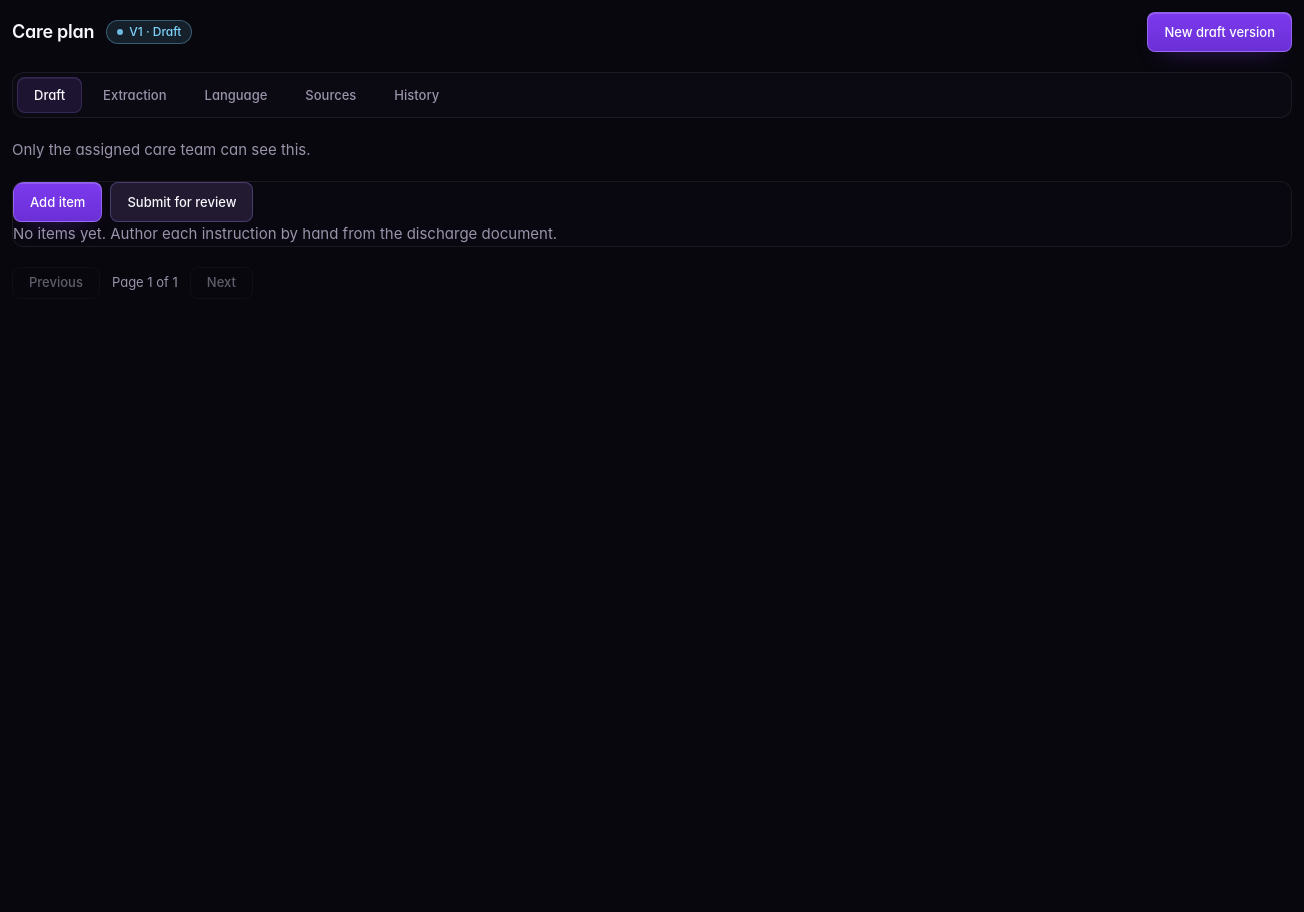
Test: CarePlanPanel › clears a stale item editor when a write is refused with a conflict
The image size is (1304, 912).
Click the button "Add item". click: point(58, 202)
box: [13,182,102,222]
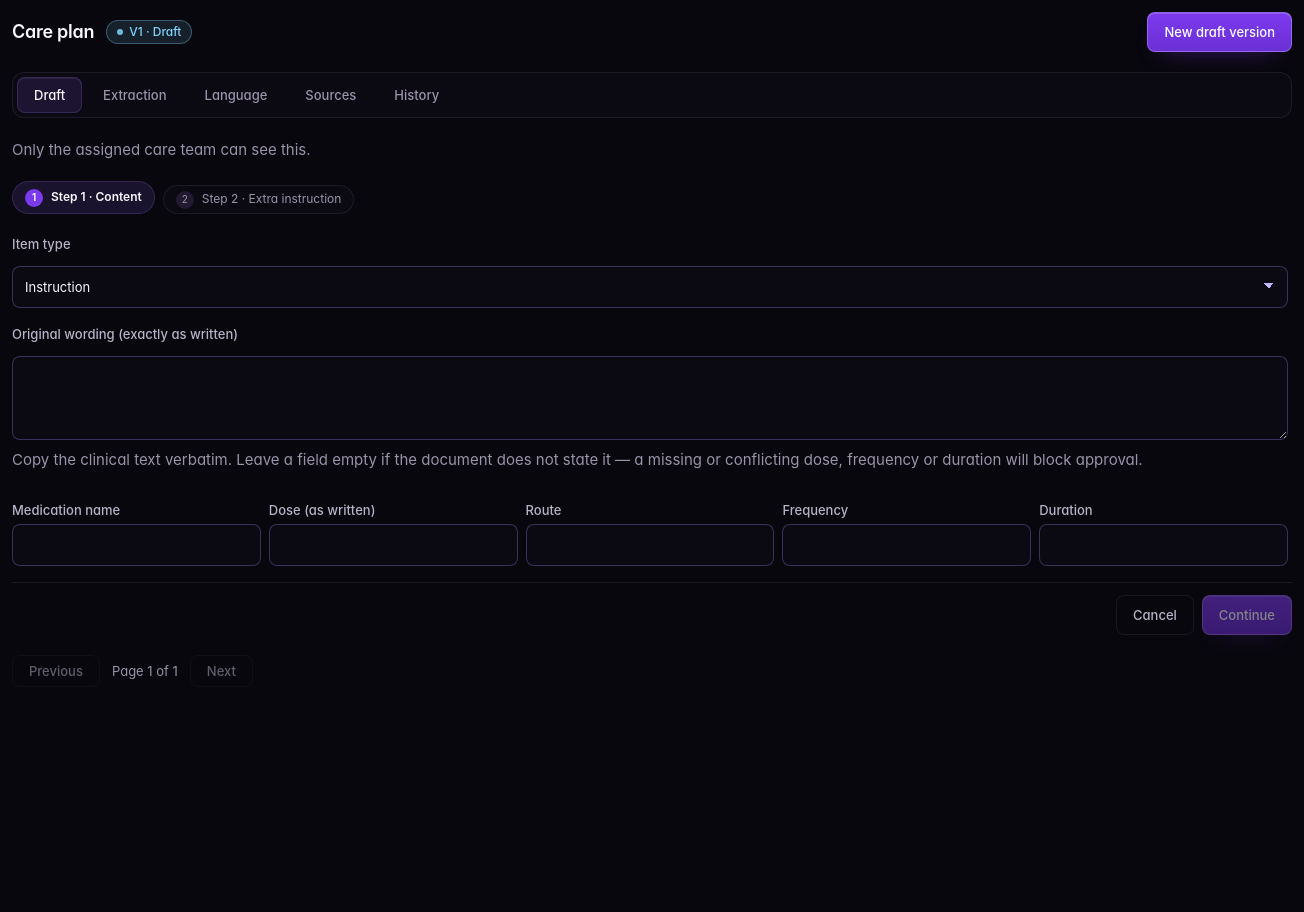
Type "Amoxicillin 500 mg" into the text box labelled "Original wording (exactly as written)". click: point(650, 398)
box: [12,356,1288,440]
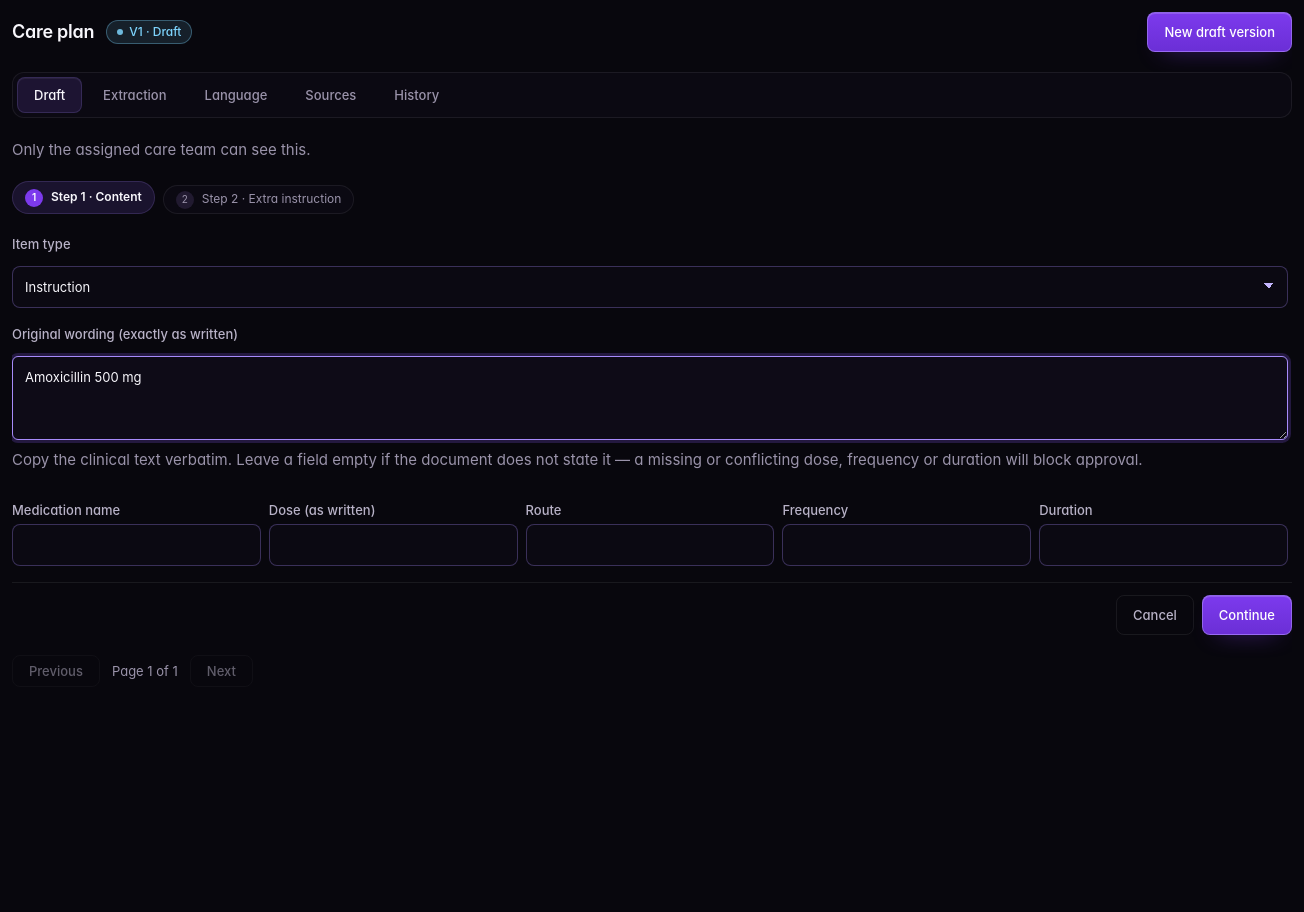
Click the button "Continue". click: point(1247, 615)
box: [1202,595,1292,635]
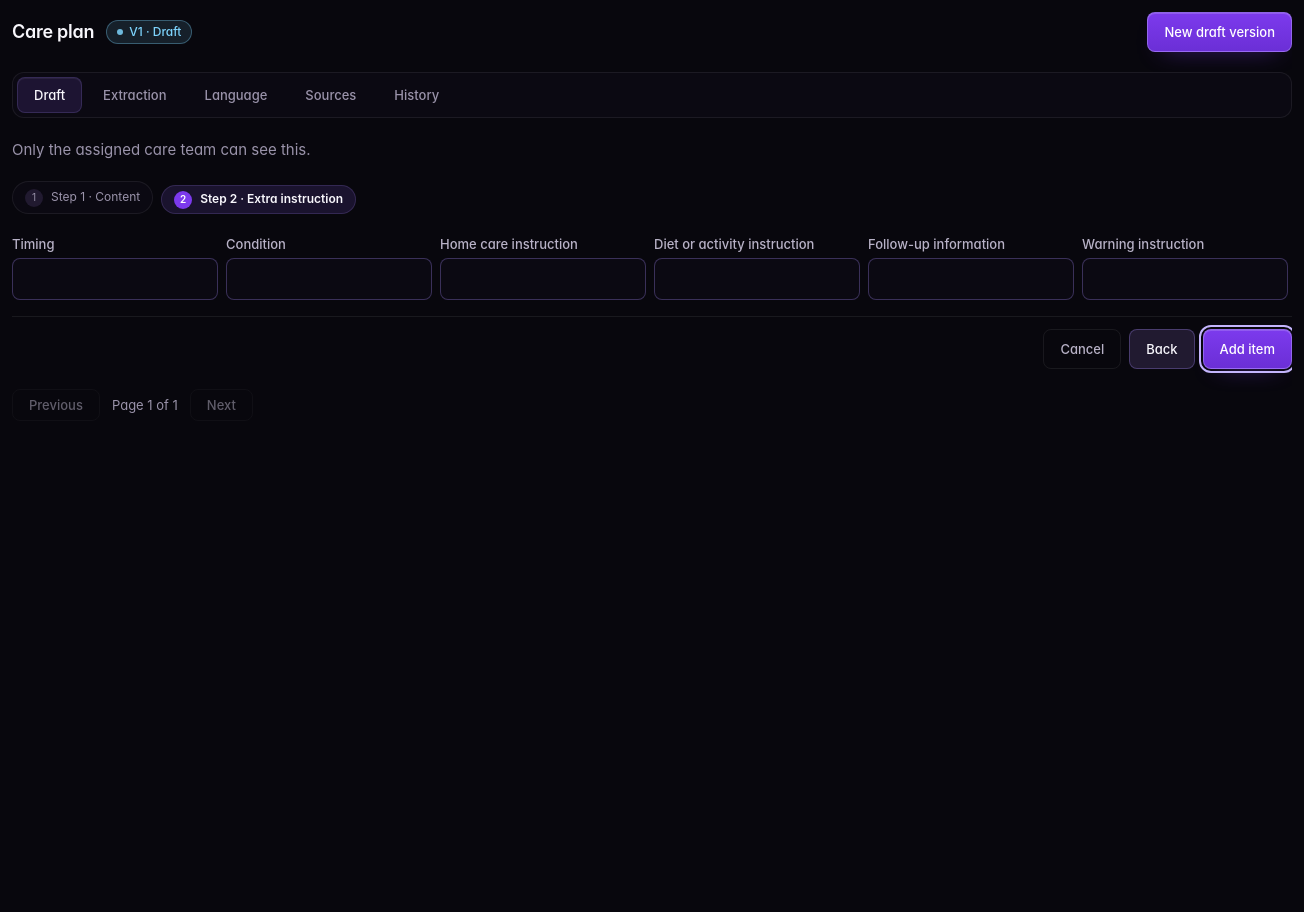
Click the button "Add item". click: point(1247, 349)
box: [1203,329,1292,369]
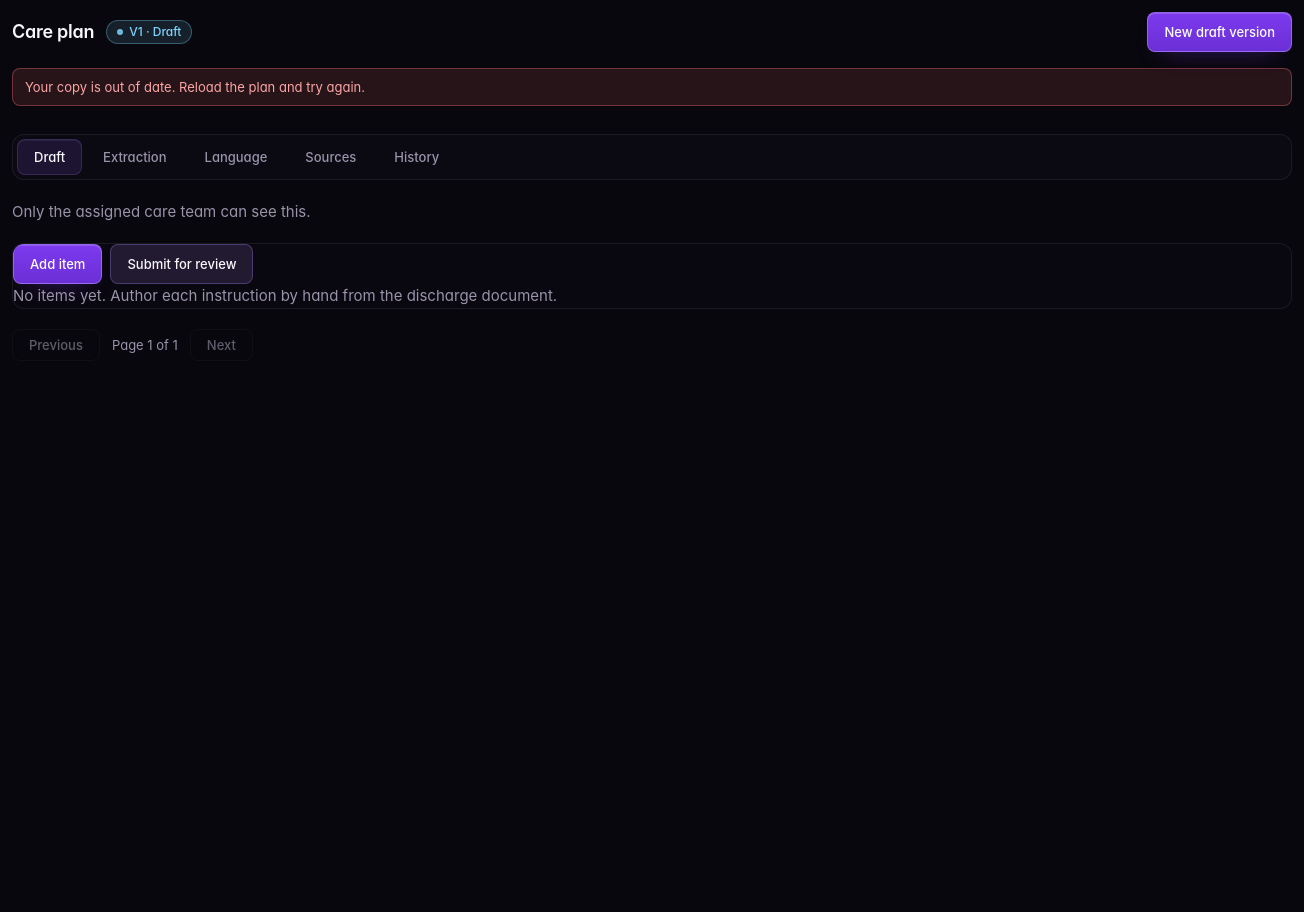
Expected: the label labelled "Original wording" is not shown
Expected: the text "Your copy is out of date. Reload the plan and try again." is shown, [12,68,1292,106]
